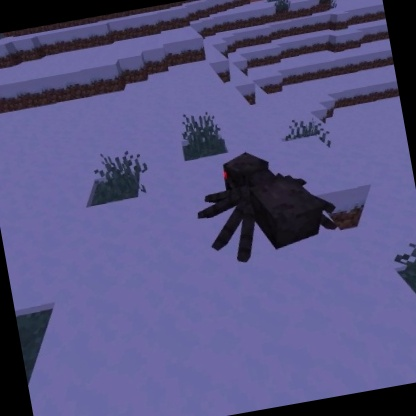spider: (183, 135, 346, 272)
